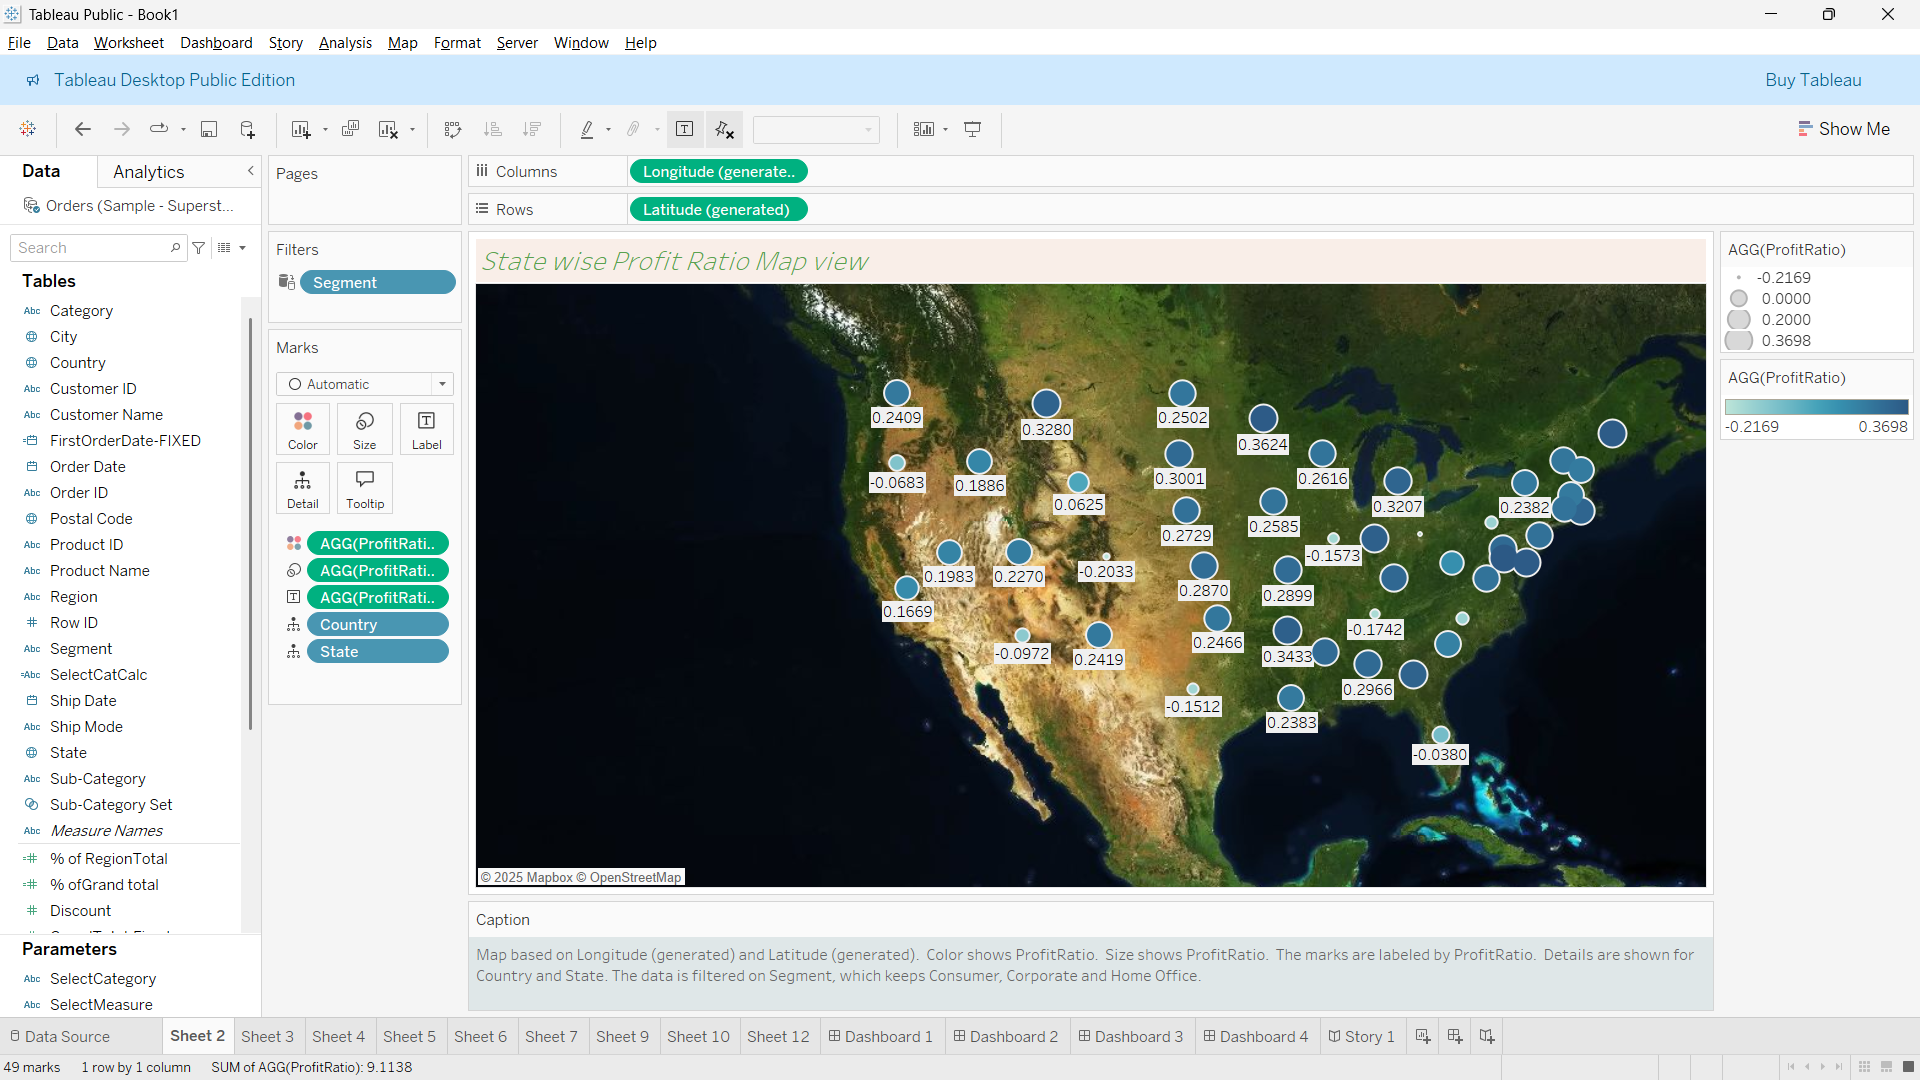

The page's visual inventory and layout, read from the dashboard file:
{"tool":"tableau","page":{"name":"Dashboard 4","canvas":[650,860],"ordinal":3},"visuals":[{"type":"worksheet","title":"Sheet 2","mark":"Automatic","box":[8,8,634,422]},{"type":"web page","param":"https://en.wikipedia.org/wiki/California","box":[8,430,634,422]}]}

Visuals, with their boxes on the page's 650x860 design canvas (x1, y1, x2, y2). These are canvas units, not pixel positions in the 1920x1080 screenshot, which may show the page scaled, cropped or inside an application window:
"Sheet 2" worksheet: l=8, t=8, r=642, b=430
web page: l=8, t=430, r=642, b=852
